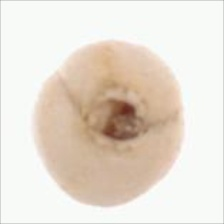L3: (81, 91, 154, 147)
L4: (32, 40, 184, 207)
